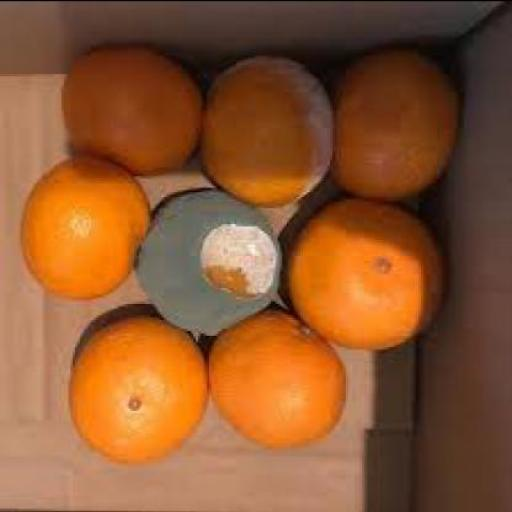biodegradable: (284, 196, 442, 348), (132, 184, 282, 334), (198, 50, 335, 205), (66, 312, 207, 462), (326, 43, 460, 198), (203, 307, 346, 446), (18, 152, 146, 298), (62, 41, 200, 171)
cardboard: (448, 2, 510, 510), (0, 1, 503, 43), (342, 346, 446, 509), (178, 441, 341, 510), (16, 296, 68, 462), (0, 462, 177, 510), (0, 68, 18, 462), (0, 66, 62, 154), (0, 41, 57, 71), (66, 296, 154, 314), (134, 170, 203, 186), (276, 202, 300, 240), (200, 414, 228, 439), (20, 274, 39, 296), (19, 155, 38, 175)
